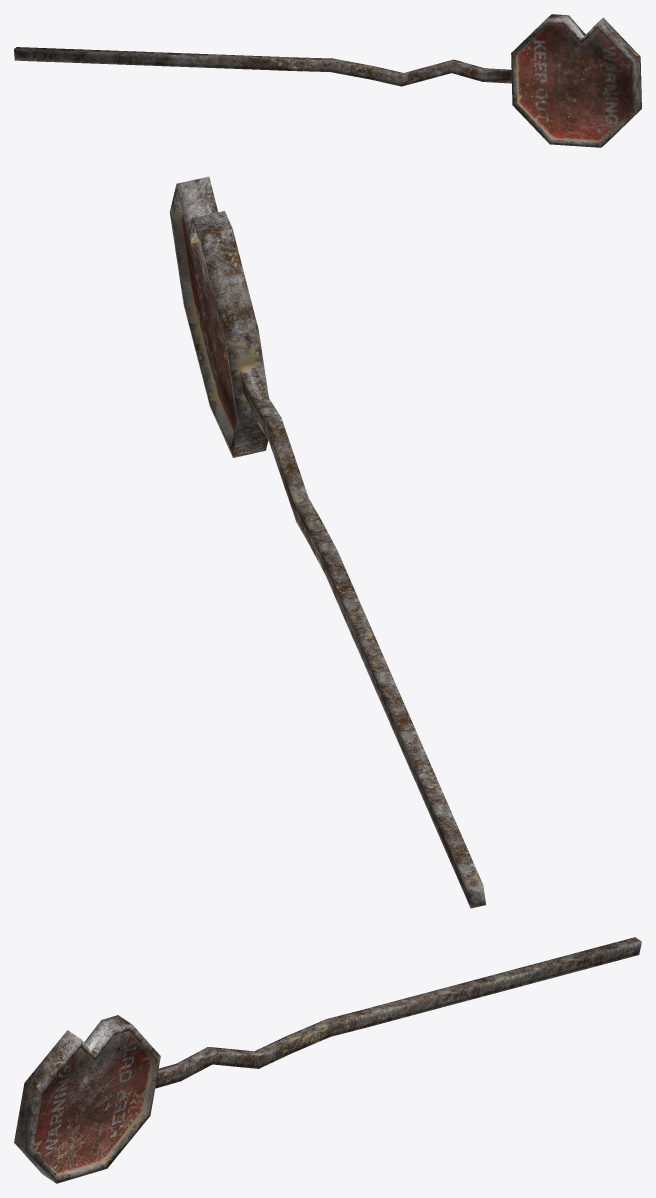
File: Anim_idle_senyal_objetos.0032.obj
3 renders of one model, top to bottom at view 1: azimuth 30°, elevation 25°; view 2: azimuth 150°, elevation 25°; view 3: azimuth 270°, elevation 25°, orthographic. The views are drawn at different scales.
Bounding box in the file's own units: 8.64 × 2.58 × 9.44.
